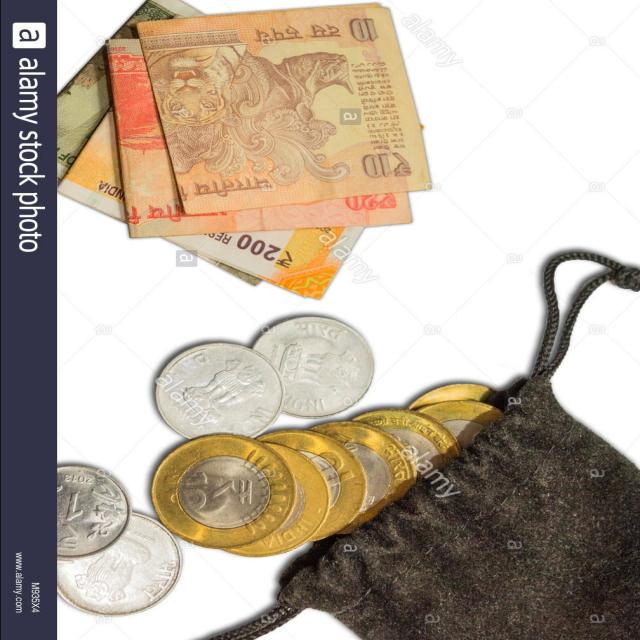10IndianRupees: (128, 9, 441, 202)
